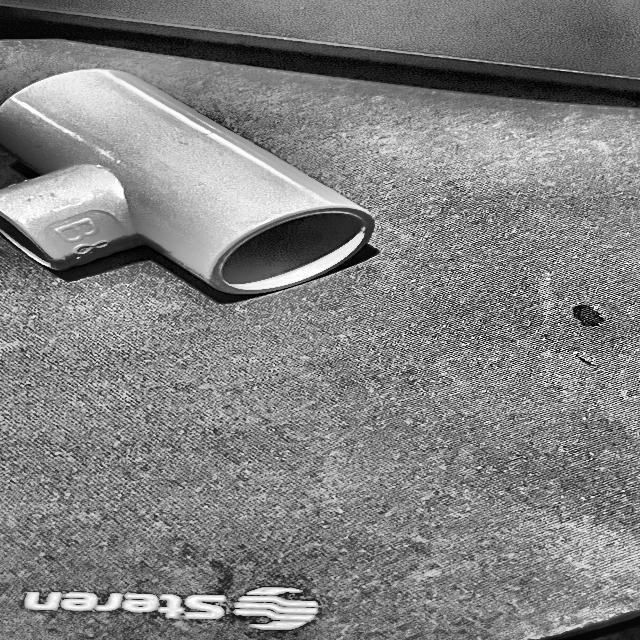EQUALTEE: (0, 69, 378, 303)
